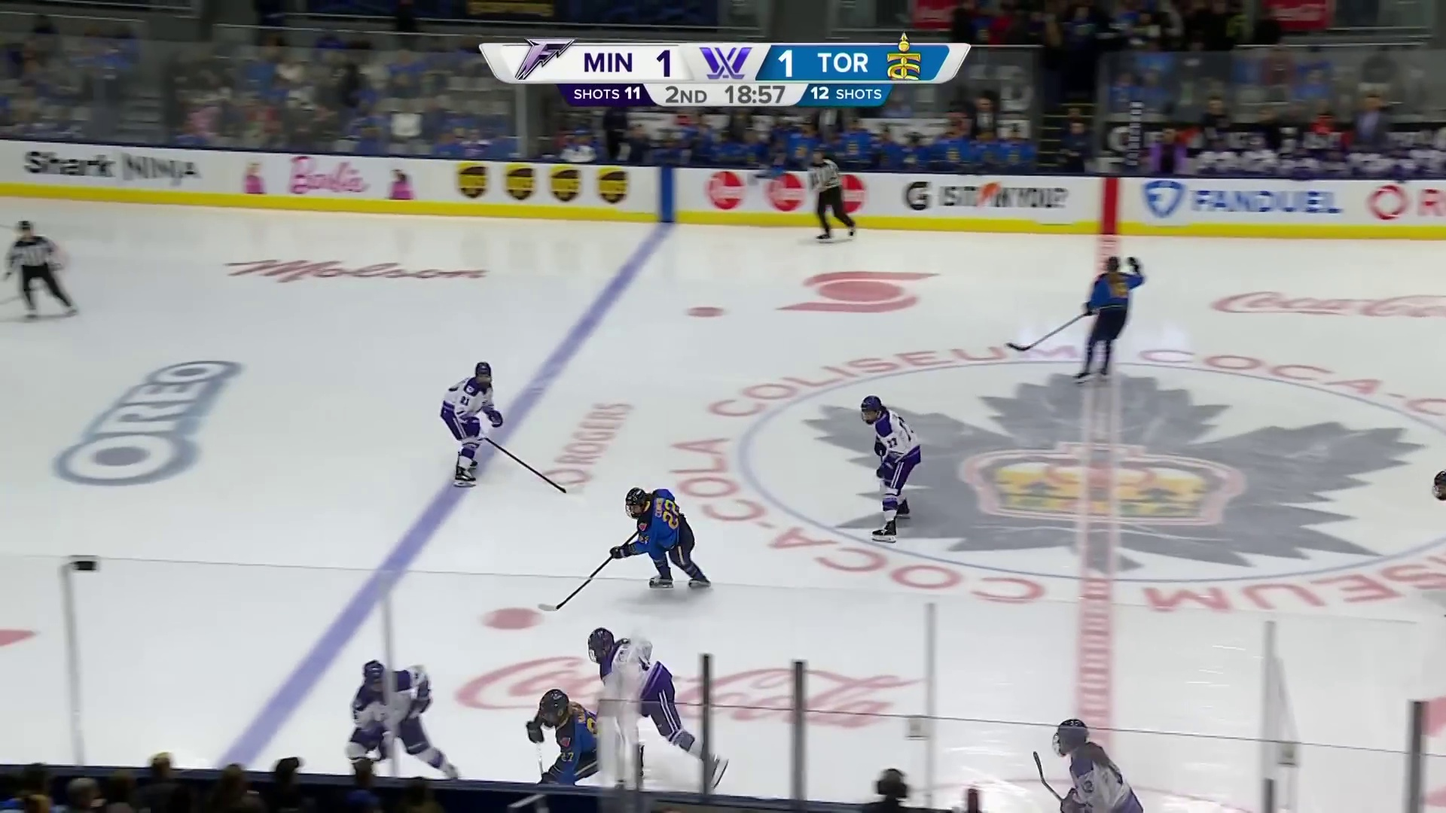player: (348, 660, 461, 778), (610, 484, 707, 589), (1071, 254, 1148, 385), (861, 395, 925, 542), (439, 360, 503, 487), (524, 688, 604, 785)
referee: (804, 148, 859, 241)
